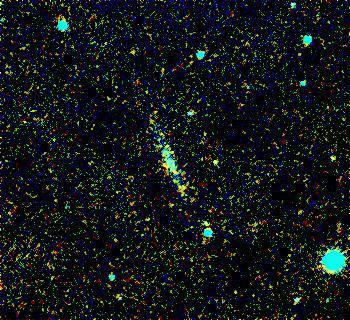star: (318, 143, 348, 173)
